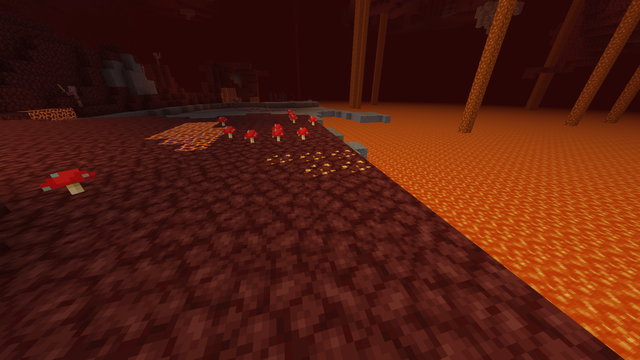nethergold: (270, 145, 375, 182)
